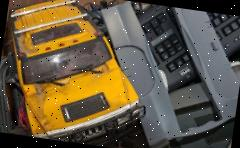electronic: (121, 1, 240, 97)
